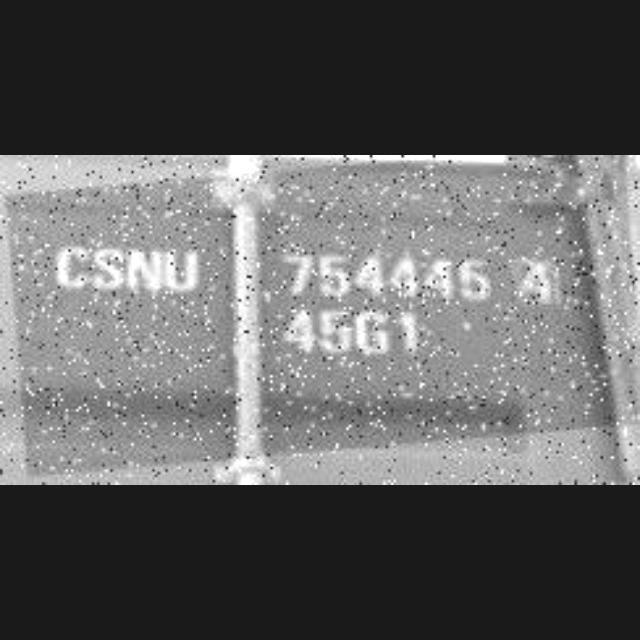1: (396, 308, 424, 356)
4: (518, 254, 566, 312), (280, 308, 318, 362), (388, 248, 424, 304), (426, 252, 458, 304), (356, 252, 388, 302)
5: (314, 250, 356, 302), (455, 252, 497, 304), (317, 306, 353, 358)
6: (354, 306, 394, 362)
7: (276, 250, 314, 300)
c: (53, 242, 91, 292)
n: (126, 240, 164, 298)
s: (90, 243, 126, 297)
u: (164, 242, 200, 298)
